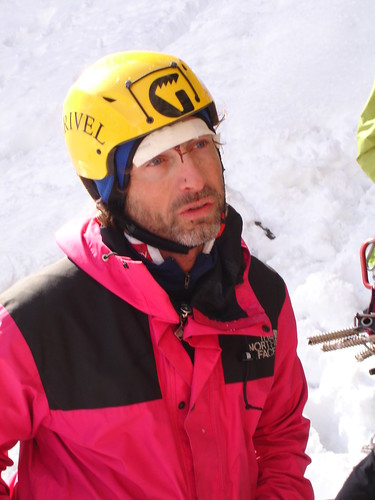helmet: (39, 31, 210, 130)
